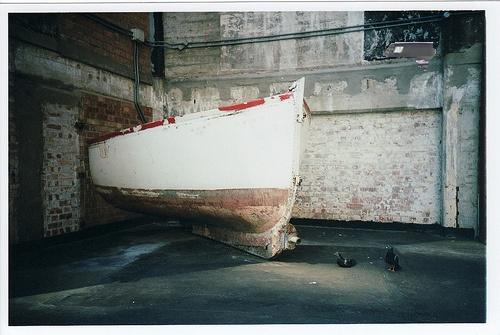tampered: (384, 43, 436, 71)
